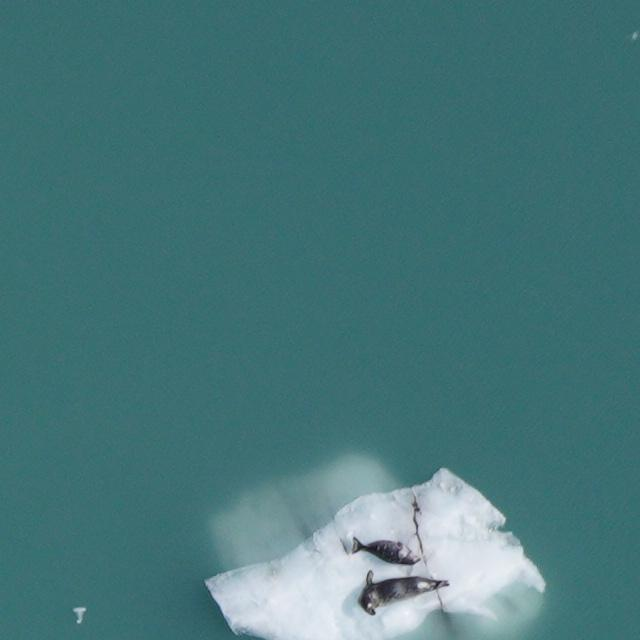seal: (356, 569, 451, 624), (351, 536, 424, 567)
